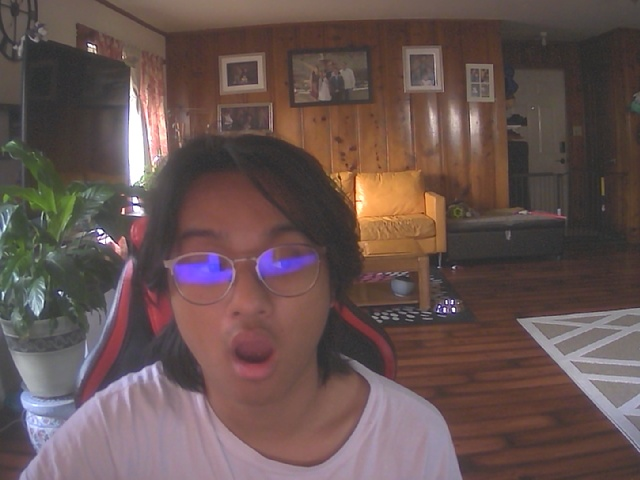fear: (154, 150, 346, 408)
